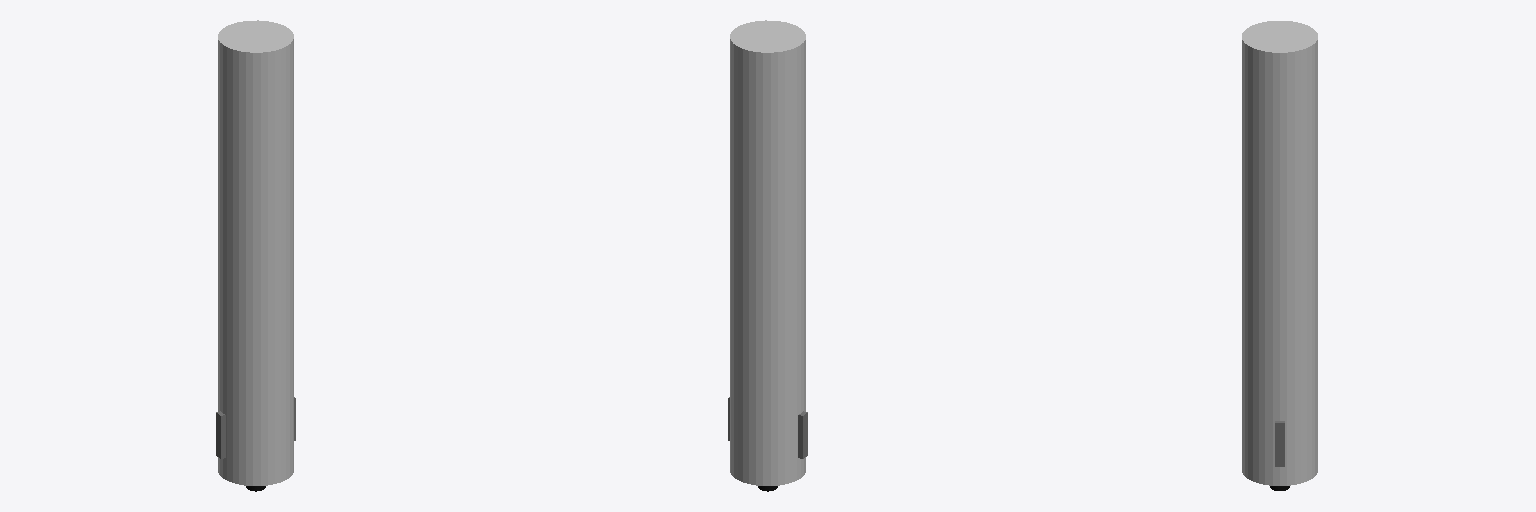
The robot description file, URDF, robot "starship":
<?xml version="1.0"?>
<robot name="starship">
    
    <!-- Link utama (badan roket) -->
    <link name="body">
        <inertial>
            <origin xyz="0 0 5"/>
            <mass value="120000"/>
            <inertia ixx="50000" ixy="0" ixz="0" iyy="50000" iyz="0" izz="100000"/>
        </inertial>
        <visual>
            <geometry>
                <cylinder radius="4" length="50"/>
            </geometry>
            <material name="silver">
                <color rgba="0.8 0.8 0.8 1"/>
            </material>
        </visual>
        <collision>
            <geometry>
                <cylinder radius="4" length="50"/>
            </geometry>
        </collision>
    </link>

    <!-- Mesin utama -->
    <link name="engine">
        <inertial>
            <origin xyz="0 0 0.5"/>
            <mass value="5000"/>
            <inertia ixx="500" ixy="0" ixz="0" iyy="500" iyz="0" izz="1000"/>
        </inertial>
        <visual>
            <geometry>
                <cylinder radius="1" length="2"/>
            </geometry>
            <material name="black">
                <color rgba="0.1 0.1 0.1 1"/>
            </material>
        </visual>
        <collision>
            <geometry>
                <cylinder radius="1" length="2"/>
            </geometry>
        </collision>
    </link>
    
    <!-- Hubungan mesin dengan badan -->
    <joint name="body_to_engine" type="fixed">
        <parent link="body"/>
        <child link="engine"/>
        <origin xyz="0 0 -26"/>
    </joint>

    <!-- Sirip bawah -->
    <link name="fin1">
        <visual>
            <geometry>
                <box size="2 1 5"/>
            </geometry>
            <material name="grey">
                <color rgba="0.5 0.5 0.5 1"/>
            </material>
        </visual>
    </link>
    
    <joint name="body_to_fin1" type="fixed">
        <parent link="body"/>
        <child link="fin1"/>
        <origin xyz="-3.5 0 -20"/>
    </joint>

    <link name="fin2">
        <visual>
            <geometry>
                <box size="2 1 5"/>
            </geometry>
            <material name="grey"/>
        </visual>
    </link>
    
    <joint name="body_to_fin2" type="fixed">
        <parent link="body"/>
        <child link="fin2"/>
        <origin xyz="3.5 0 -20"/>
    </joint>

    <!-- Sirip atas -->
    <link name="fin3">
        <visual>
            <geometry>
                <box size="1.5 0.5 4"/>
            </geometry>
            <material name="grey"/>
        </visual>
    </link>
    
    <joint name="body_to_fin3" type="fixed">
        <parent link="body"/>
        <child link="fin3"/>
        <origin xyz="-2.5 0 20"/>
    </joint>
    
    <link name="fin4">
        <visual>
            <geometry>
                <box size="1.5 0.5 4"/>
            </geometry>
            <material name="grey"/>
        </visual>
    </link>
    
    <joint name="body_to_fin4" type="fixed">
        <parent link="body"/>
        <child link="fin4"/>
        <origin xyz="2.5 0 20"/>
    </joint>

</robot>

--- Facts derived from the render (not from the file) ---
Views: 3 orthographic renders of the robot side by side, from view 1: azimuth 30°, elevation 25°; view 2: azimuth 150°, elevation 25°; view 3: azimuth 270°, elevation 25°.
Robot: starship — 6 links, 5 joints (5 fixed); root link body; default pose: every joint at zero.
Visible links, largest first — view 1: body; view 2: body; view 3: body.
Link boxes in pixels (x1,y1,x2,y2): body: [218, 20, 293, 485]; body: [730, 20, 805, 485]; body: [1242, 21, 1317, 485].
Bounding box of the posed robot: 9 × 8 × 52 m (x, y, z).
Geometry: primitives only (box / cylinder / sphere), no mesh files.